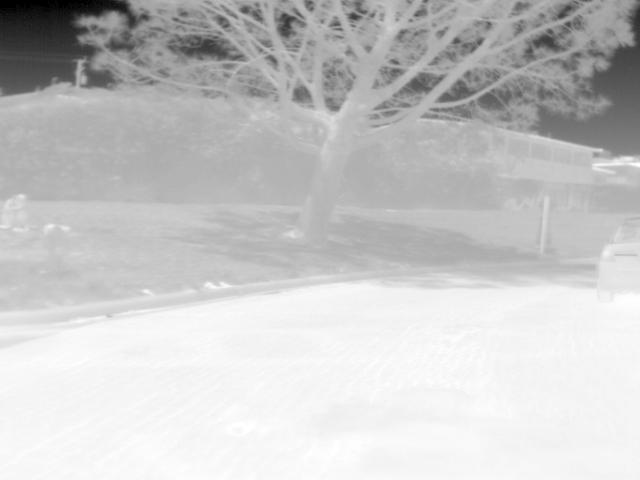car: (595, 214, 639, 301)
person: (1, 192, 27, 232)
